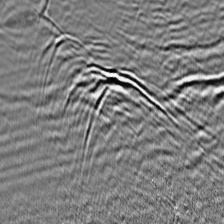cavities: (70, 60, 179, 149)
